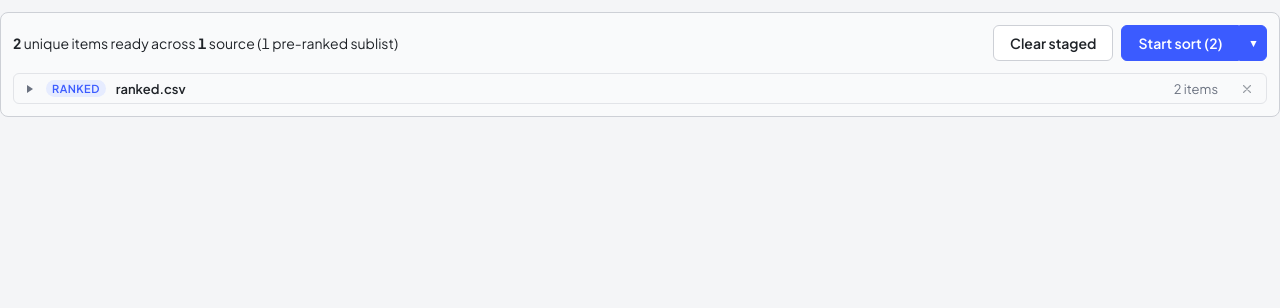
Scenario: StagedItemsPanel · Start Sort split-button › picking Confirmation relabels the primary CTA
Click the button with class "staged-panel-start-caret".
click(1253, 43)  # box [1240,25,1267,61]
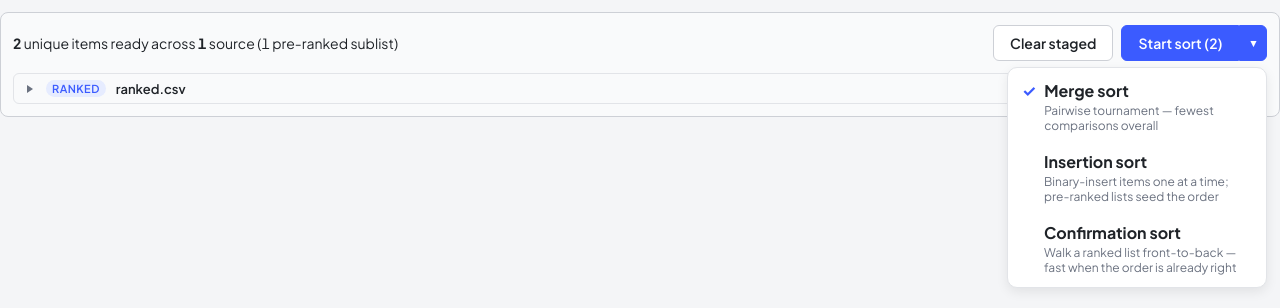
Click the menu item with class "staged-panel-start-menu-item" that starts with "Confirmation sort".
click(1137, 248)  # box [1012,214,1262,283]
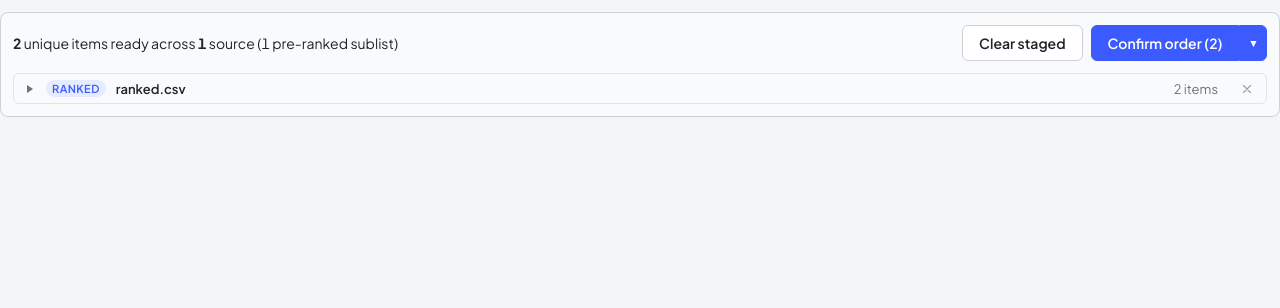
Result: the button with class "staged-panel-start-main" shows "Confirm order" at [1090,25,1240,61]
